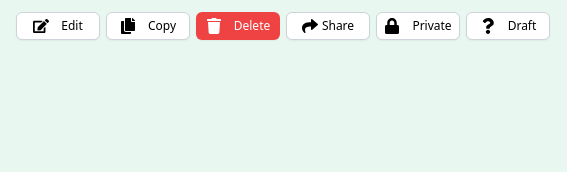
Test: EventCardActions › shows 'Copied' message after successful share
Note: Click the Share button
Click the button "Share". click: (328, 26)
box: [286,12,370,40]
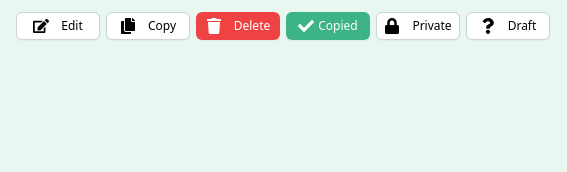
Expected: the text "Copied" is shown, [318,18,358,34]
